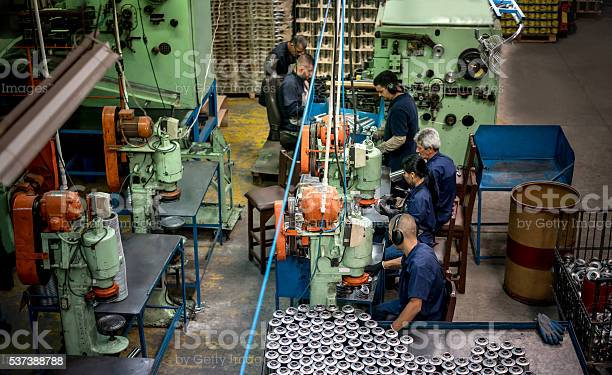person: (364, 215, 451, 335), (260, 32, 307, 149), (370, 70, 418, 168), (394, 156, 440, 250), (413, 127, 457, 225), (284, 54, 316, 138)
